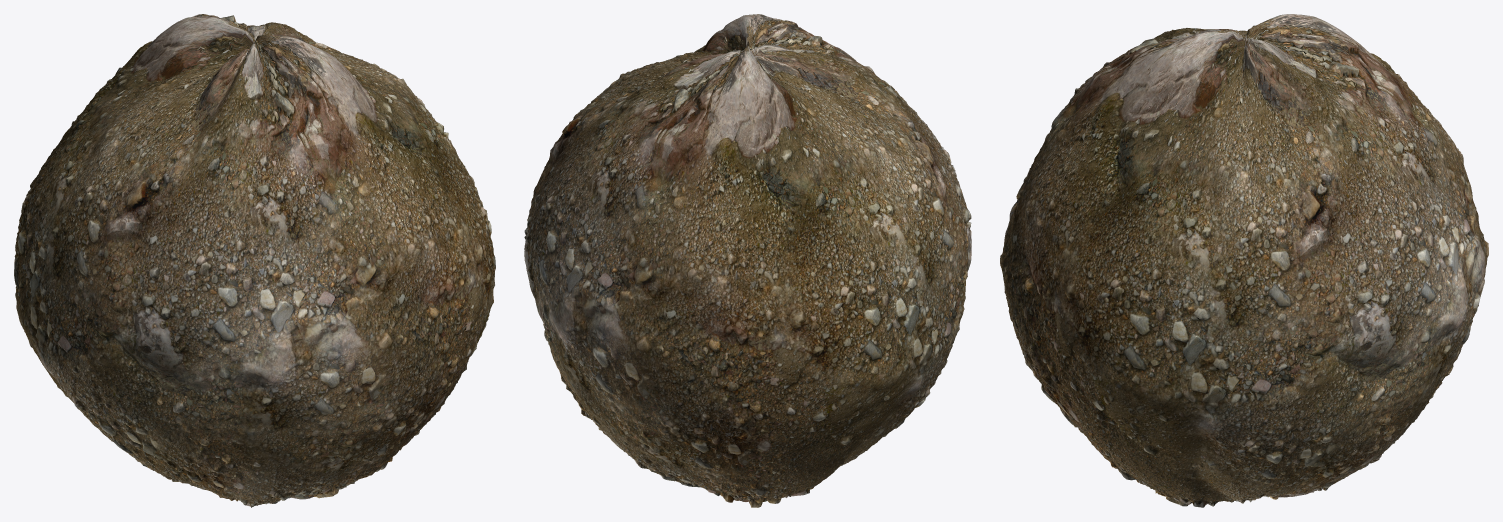
File: rocks_ground_02_1k.gltf
3 views of the same model, side by side, from view 1: azimuth 30°, elevation 25°; view 2: azimuth 150°, elevation 25°; view 3: azimuth 270°, elevation 25° (orthographic). The views are drawn at different scales.
Parts seen in each view (by area): view 1: sphere_gltf; view 2: sphere_gltf; view 3: sphere_gltf.
Boxes of the visible parts, x1,y1,x2,y2 form: sphere_gltf: (14, 14, 495, 507); sphere_gltf: (524, 14, 971, 507); sphere_gltf: (1000, 14, 1488, 507).
Size of the model in its own units: 1.98 by 2.17 by 2.05.
Materials: 1 (1 with a texture image).
